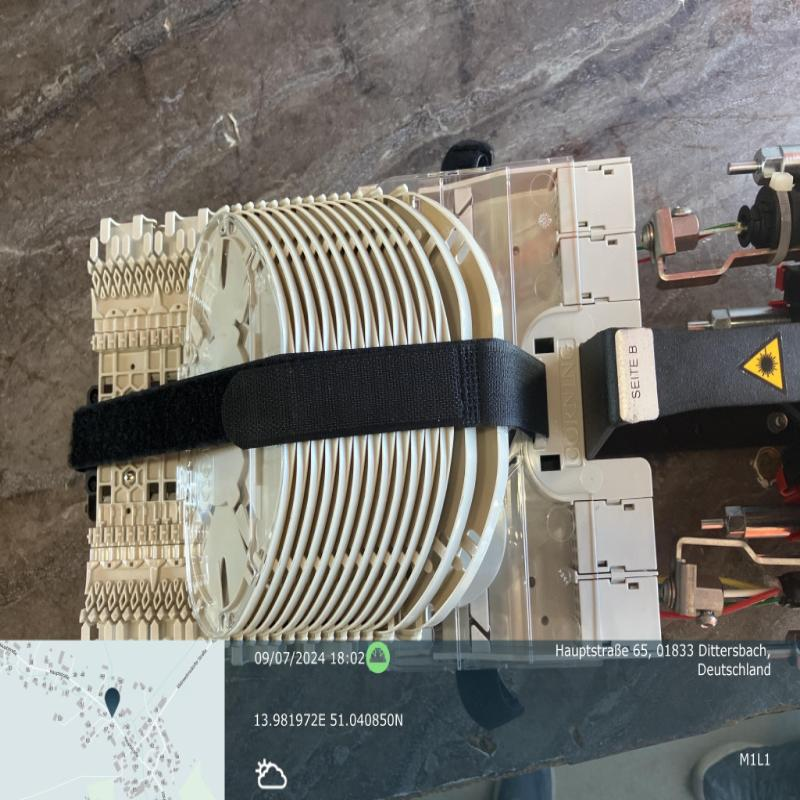NT-Muffen: (76, 130, 800, 643)
